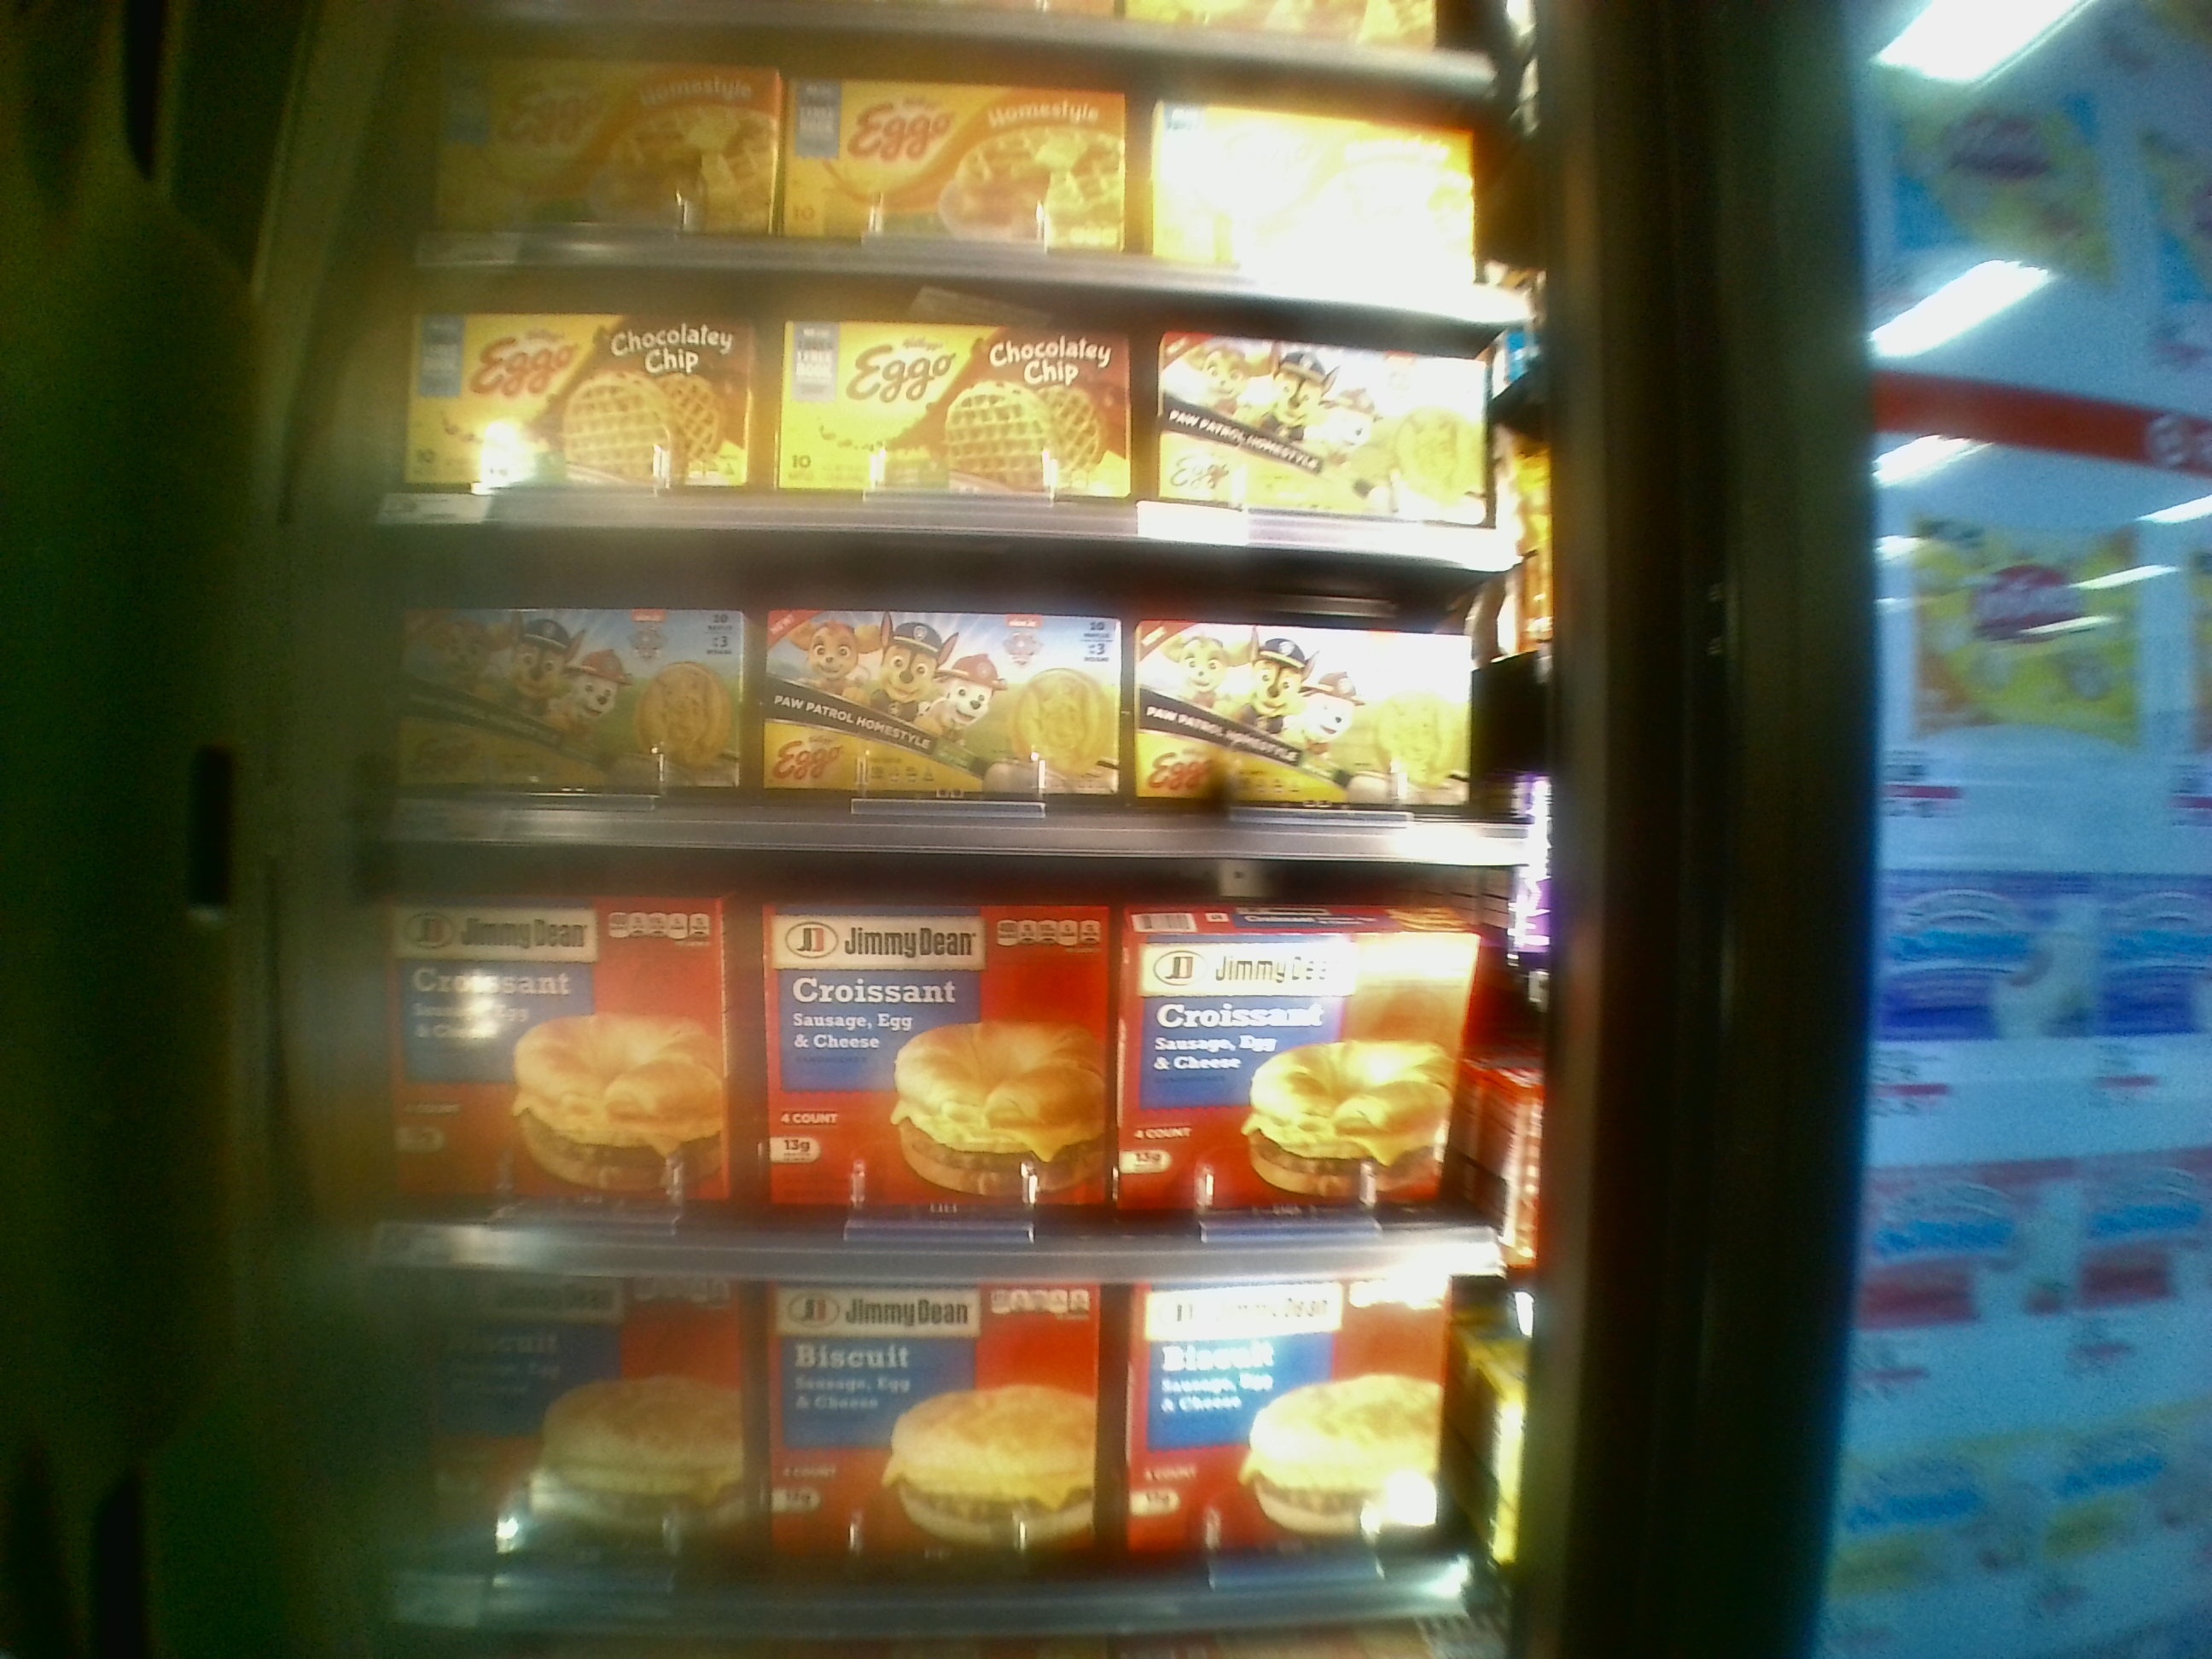shelf: (401, 532, 1524, 857)
